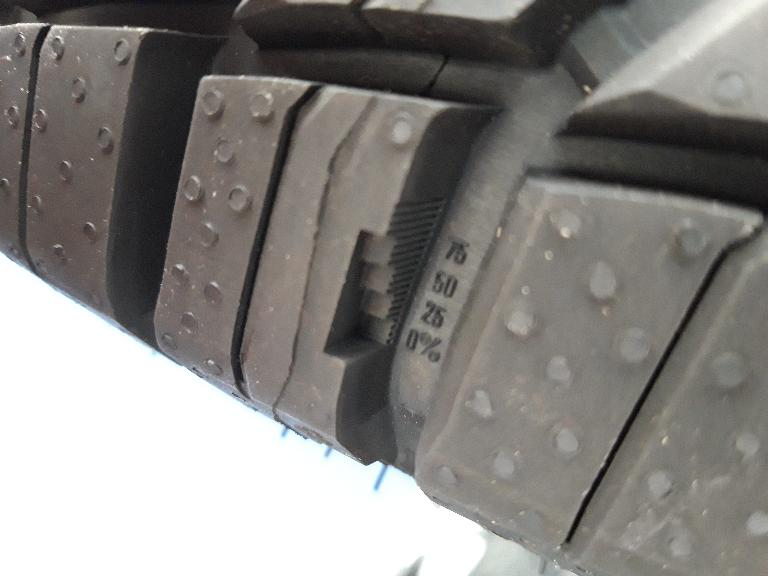temoin:100: (316, 192, 456, 381)
